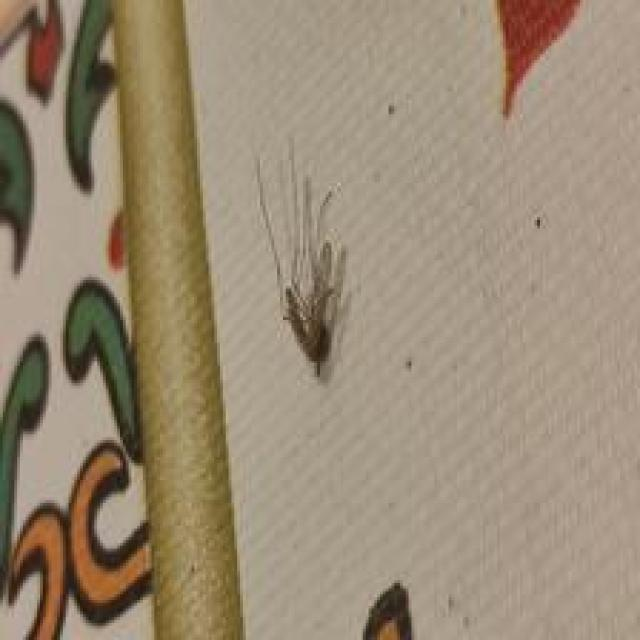Culex: (253, 134, 350, 377)
